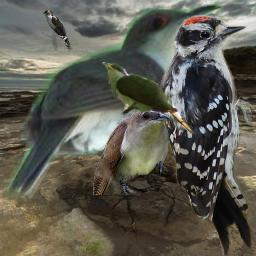Cuckoo: (5, 2, 226, 200), (93, 103, 173, 195), (101, 62, 196, 134), (42, 10, 73, 51)
Woodpecker: (156, 15, 252, 256)
